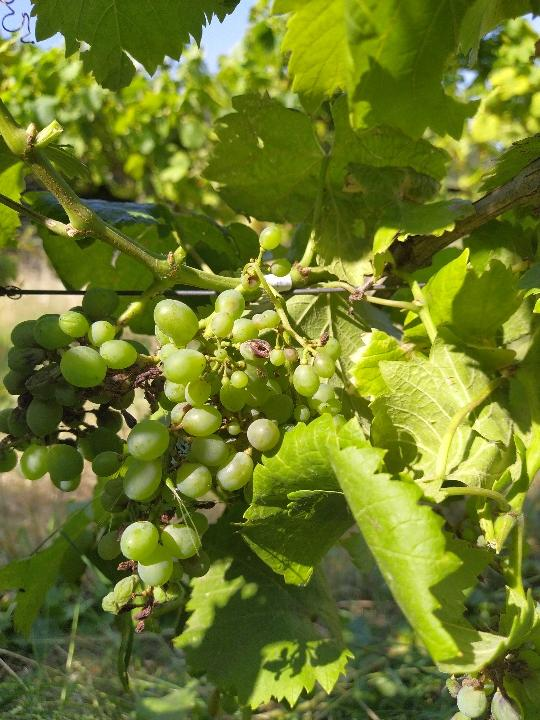grape: (91, 225, 342, 636), (2, 286, 142, 497)
